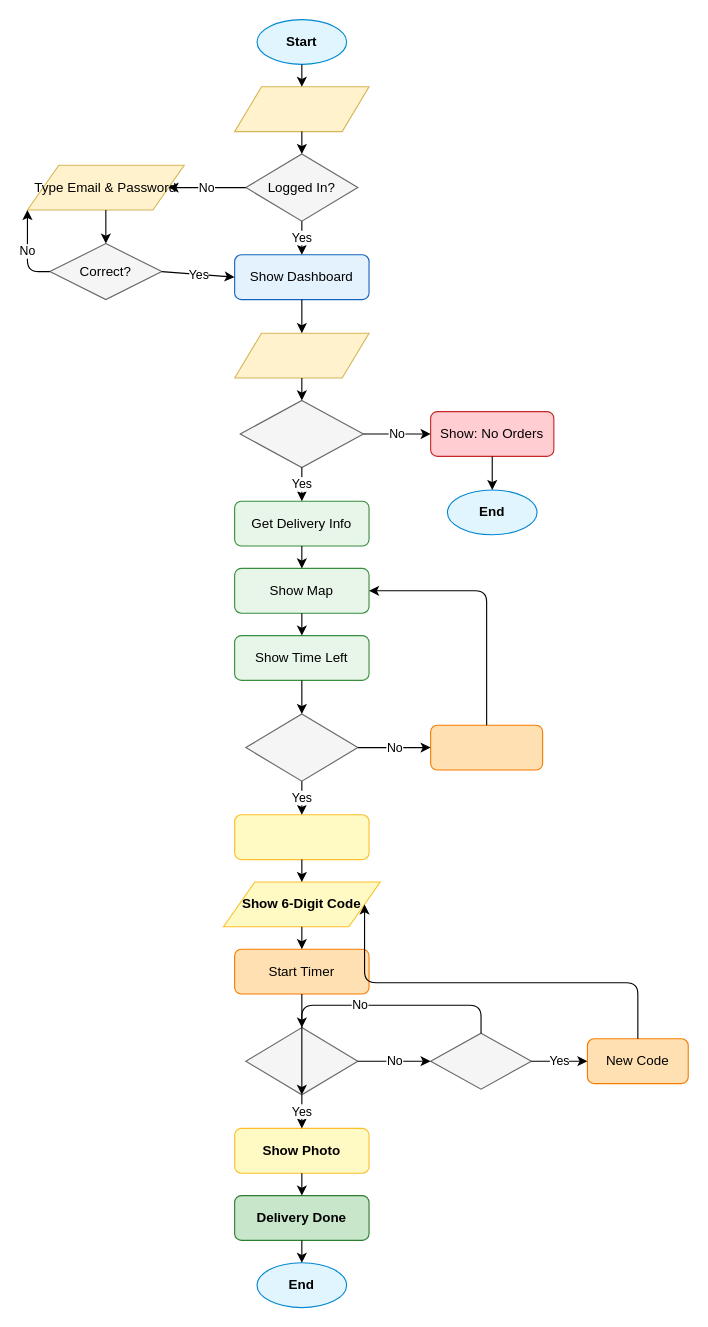
This 708x1327 diagram has some shape labels left out. The box of each missing label's shape, as (x1, y1, x2, y2) in pixels:
Code Used?: (245, 1026, 358, 1095)
Have Delivery?: (239, 399, 363, 468)
Open App: (234, 86, 369, 132)
Rider Here?: (245, 713, 358, 781)
Show OTP Screen: (234, 814, 369, 860)
Tap Track Order: (234, 332, 369, 378)
Time Up?: (430, 1032, 531, 1089)
Update Map: (430, 724, 543, 770)
